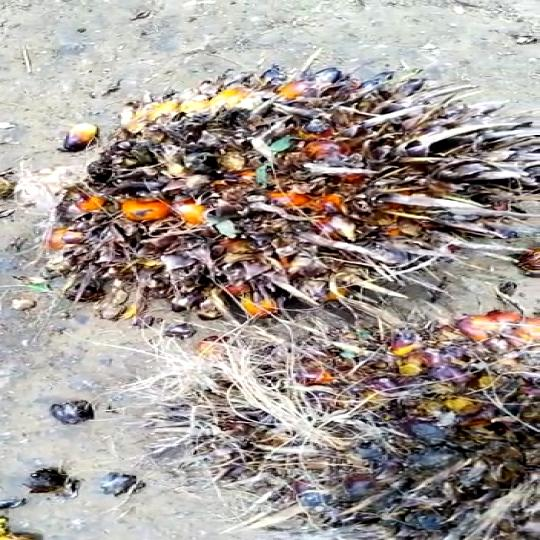terlalu masak: (32, 48, 540, 322)
